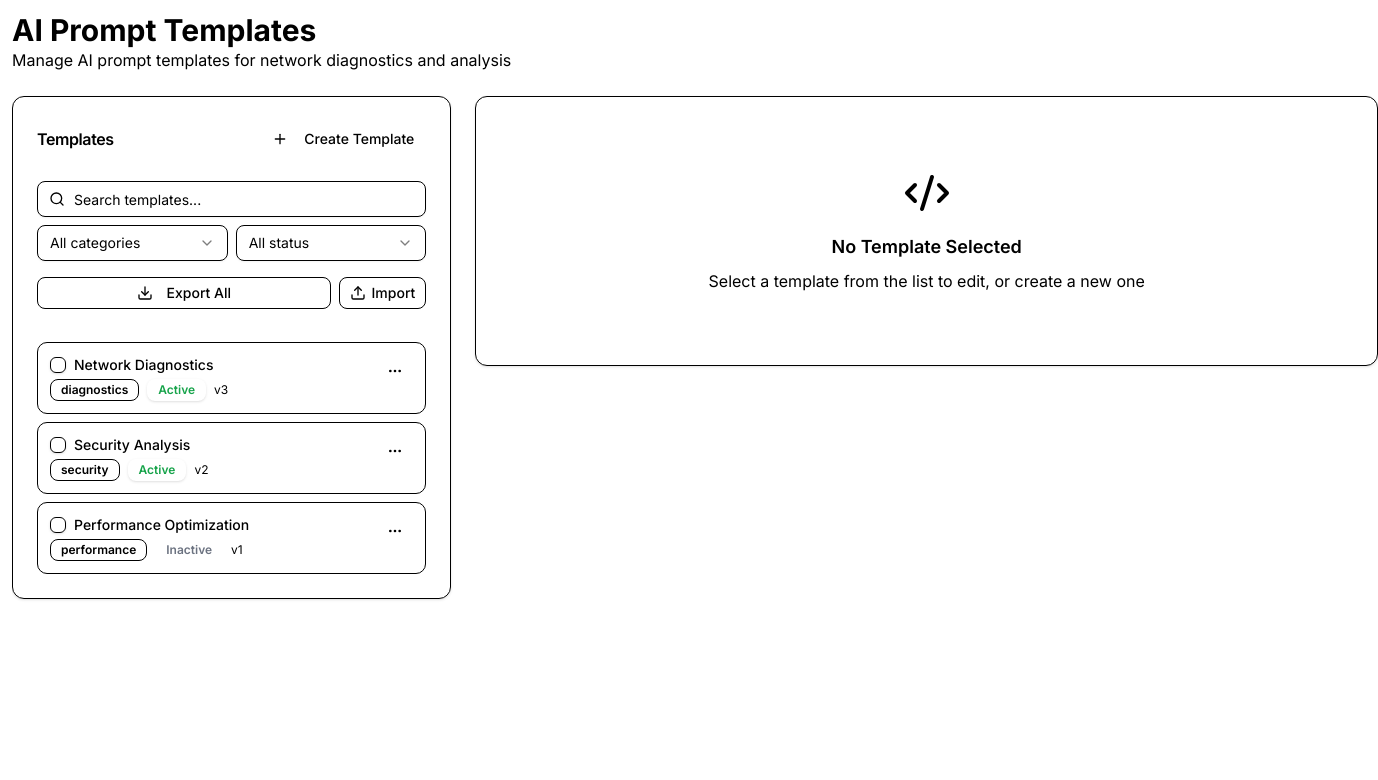
Test: PromptTemplateEditor › Monaco Editor Integration › should display Monaco editor when selecting a prompt
This screenshot has width=1378, height=780.
Click the heading "Network Diagnostics" at x=144, y=365, box [74,355,213,375]
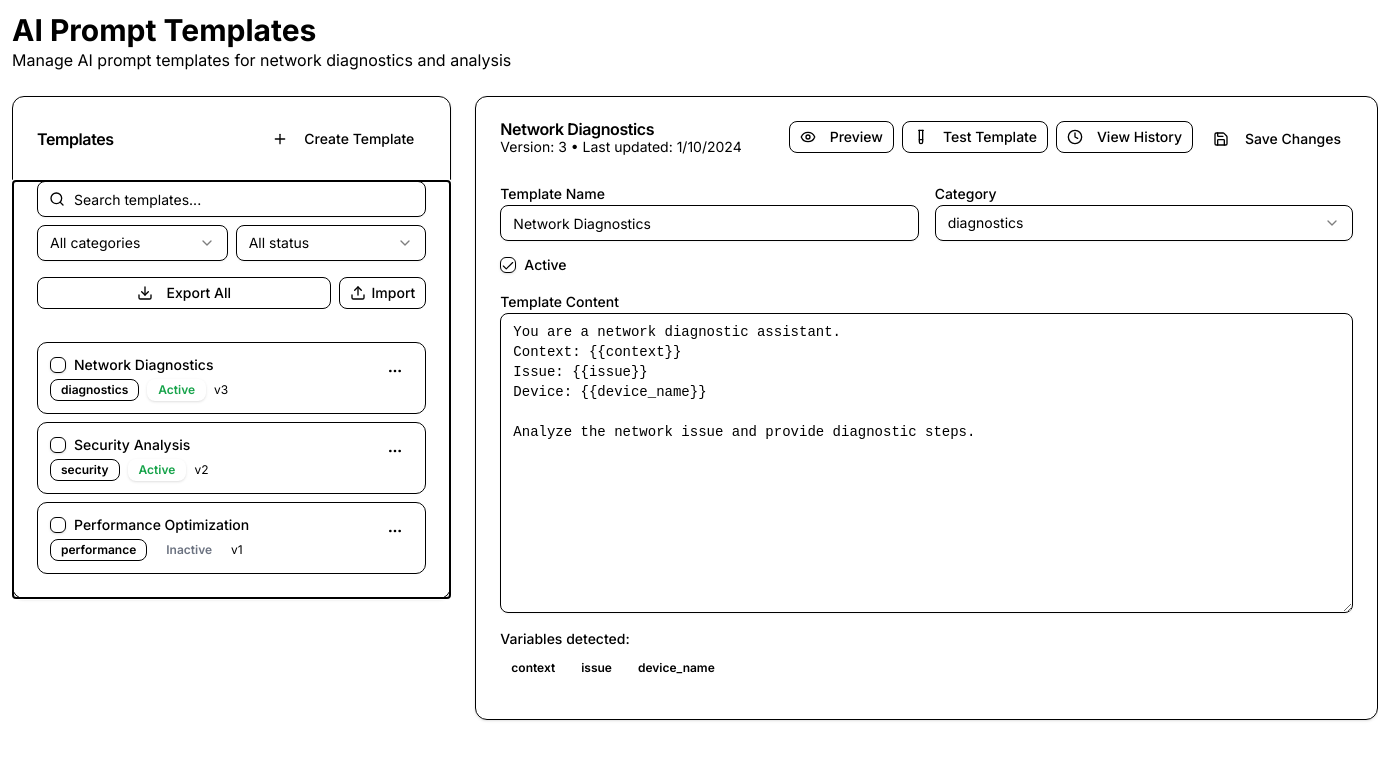
Expected: the text box with test id "monaco-editor" is shown, [500,313,1353,613]
